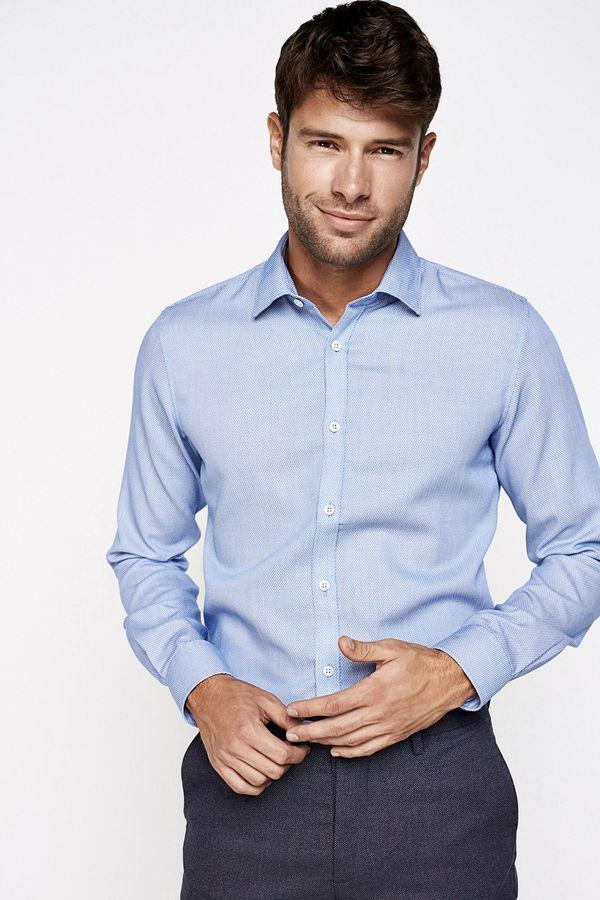teeshirt: (103, 207, 600, 763)
